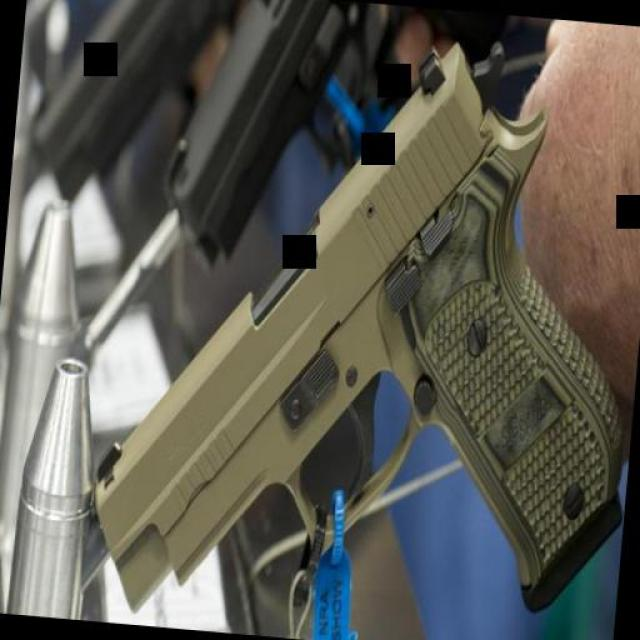gun: (79, 9, 640, 640)
